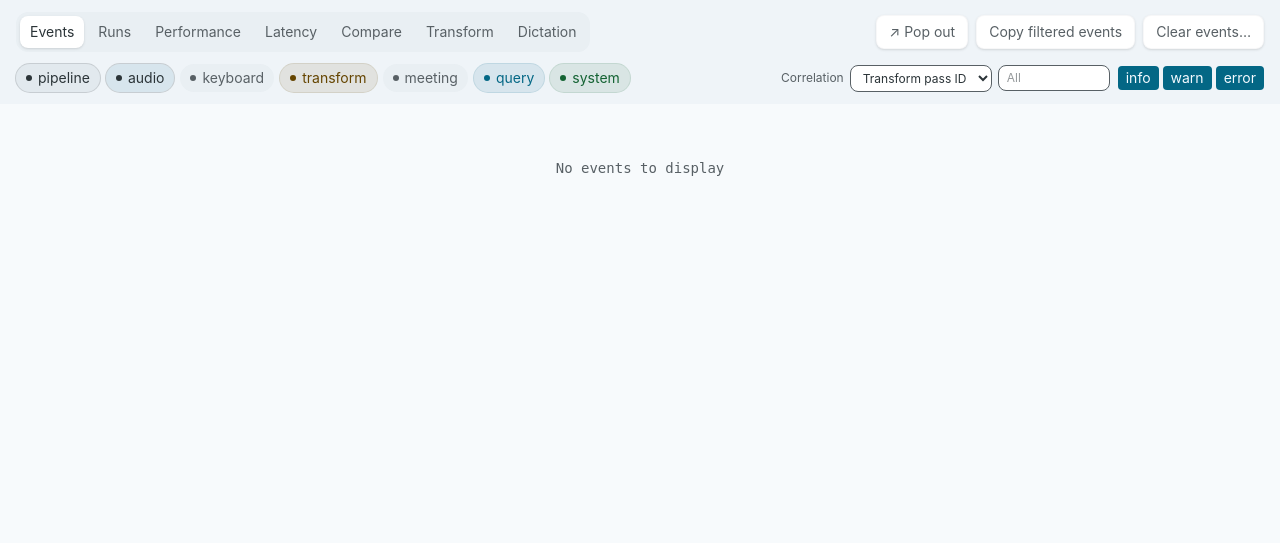
DiagnosticsWorkspace shared diagnostics shell › renders the diagnostics tabs in their intended order
Click the tab "Runs". click: {"x": 115, "y": 32}
box: [88,16,141,48]
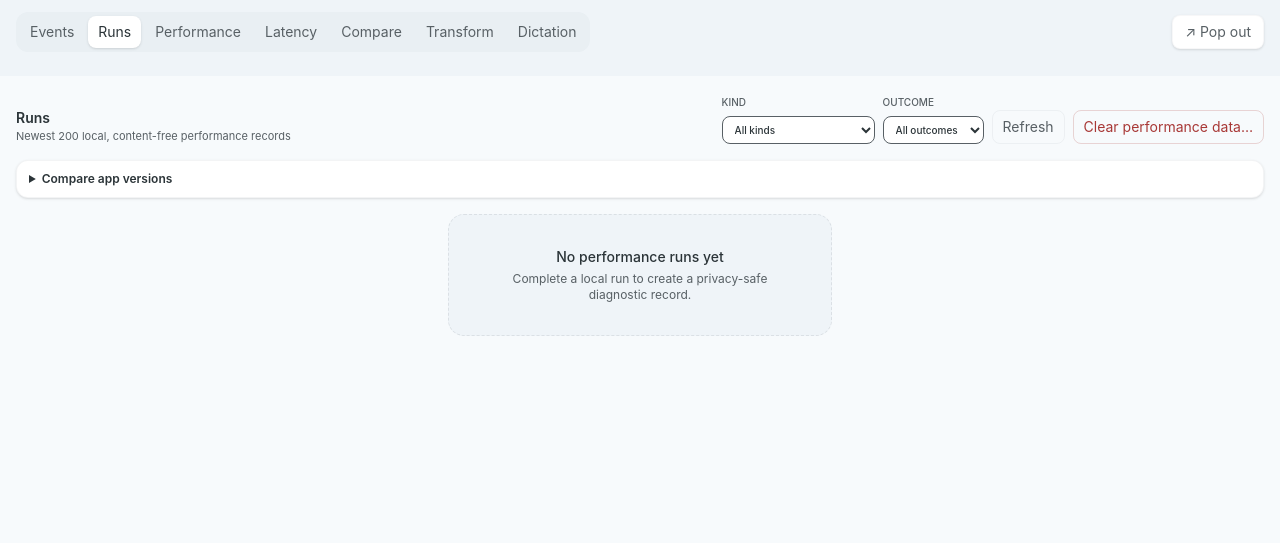
expect the panel with id "diagnostics-panel-runs" is shown: met, box [0,76,1279,352]
Click the tab "Performance". click: {"x": 198, "y": 32}
box: [145,16,251,48]
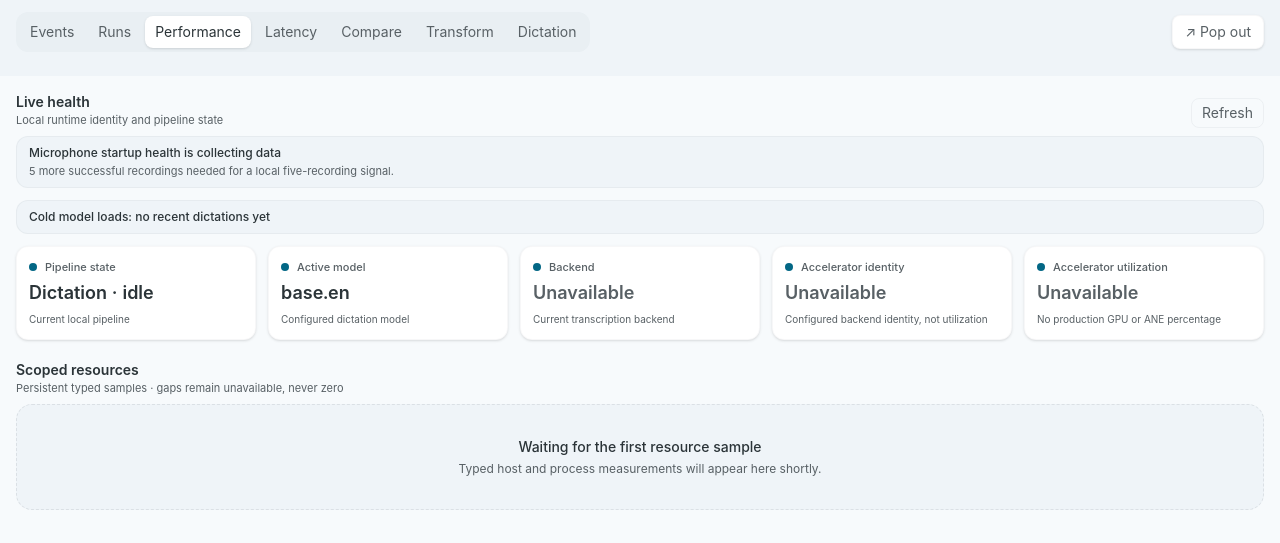
expect the panel with id "diagnostics-panel-performance" is shown: met
Click the tab "Latency". click: {"x": 291, "y": 32}
box: [255,16,327,48]
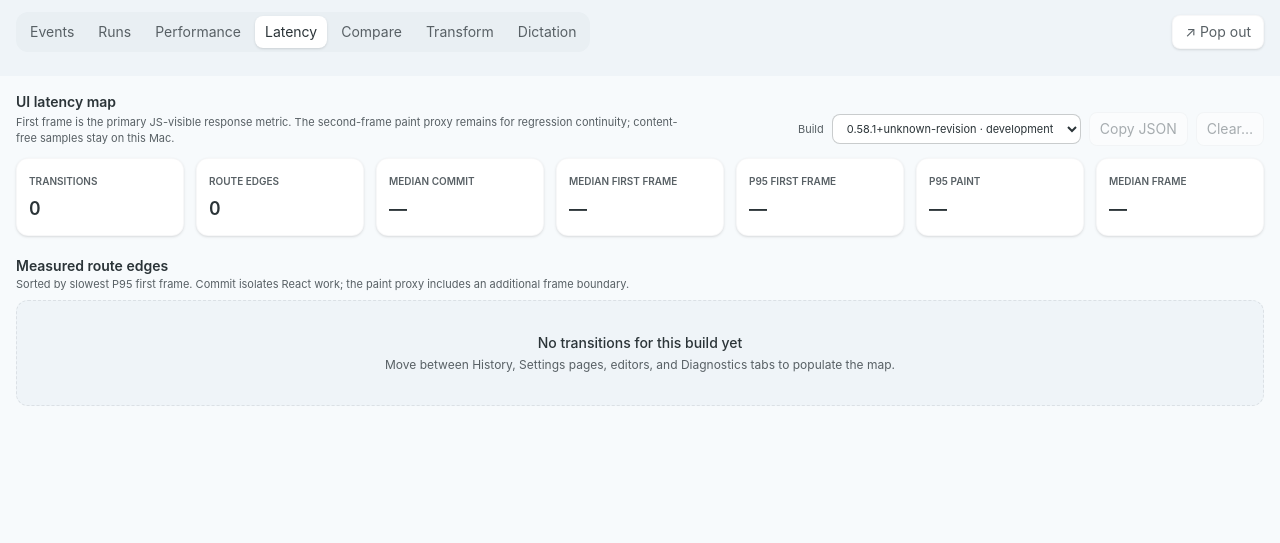
expect the panel with id "diagnostics-panel-latency" is shown: met
expect the text "UI latency map" is shown: met, box [16,93,116,110]
Click the tab "Compare". click: {"x": 372, "y": 32}
box: [331,16,412,48]
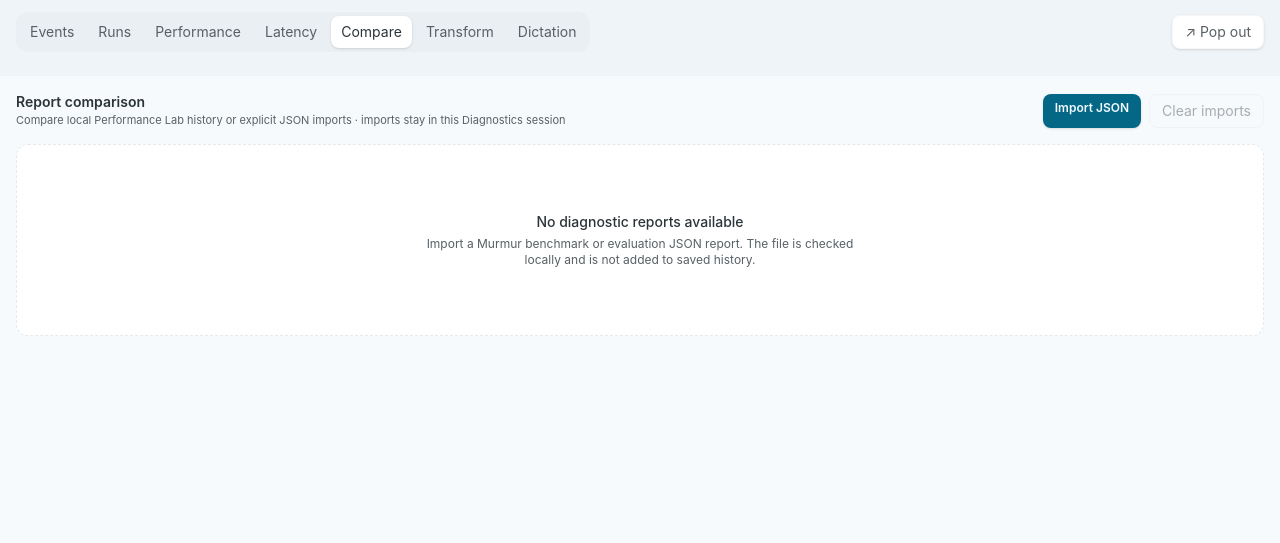
expect the panel with id "diagnostics-panel-reports" is shown: met, box [0,76,1279,352]
expect the text "Report comparison" is shown: met, box [16,93,145,110]
Click the tab "Transform". click: {"x": 460, "y": 32}
box: [416,16,504,48]
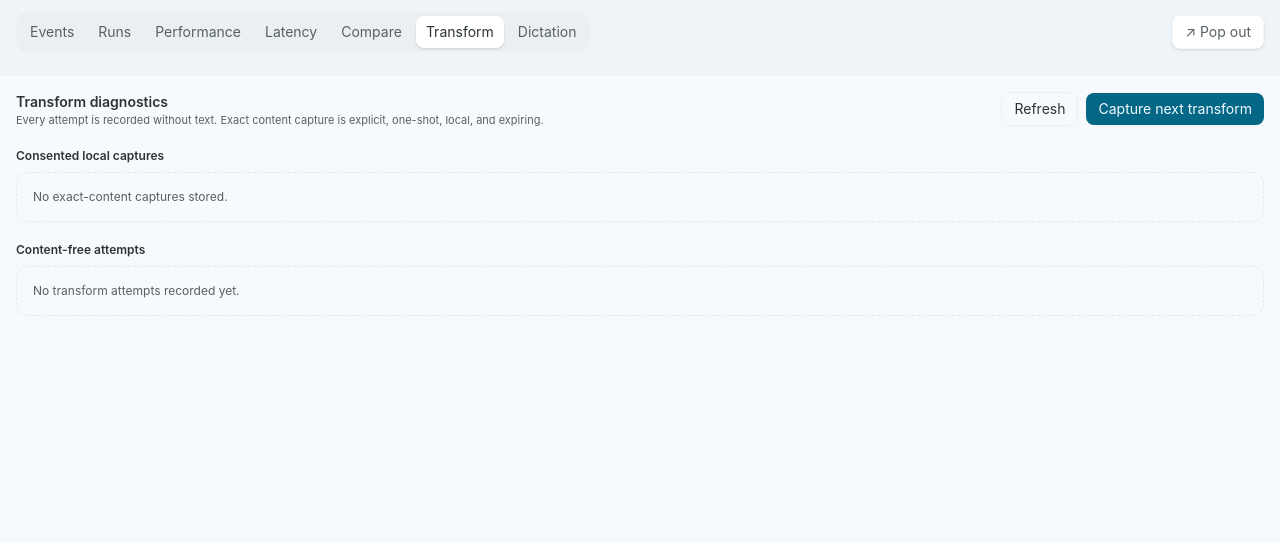
expect the panel with id "diagnostics-panel-transforms" is shown: met, box [0,76,1279,332]
expect the text "Transform diagnostics" is shown: met, box [16,93,168,110]
